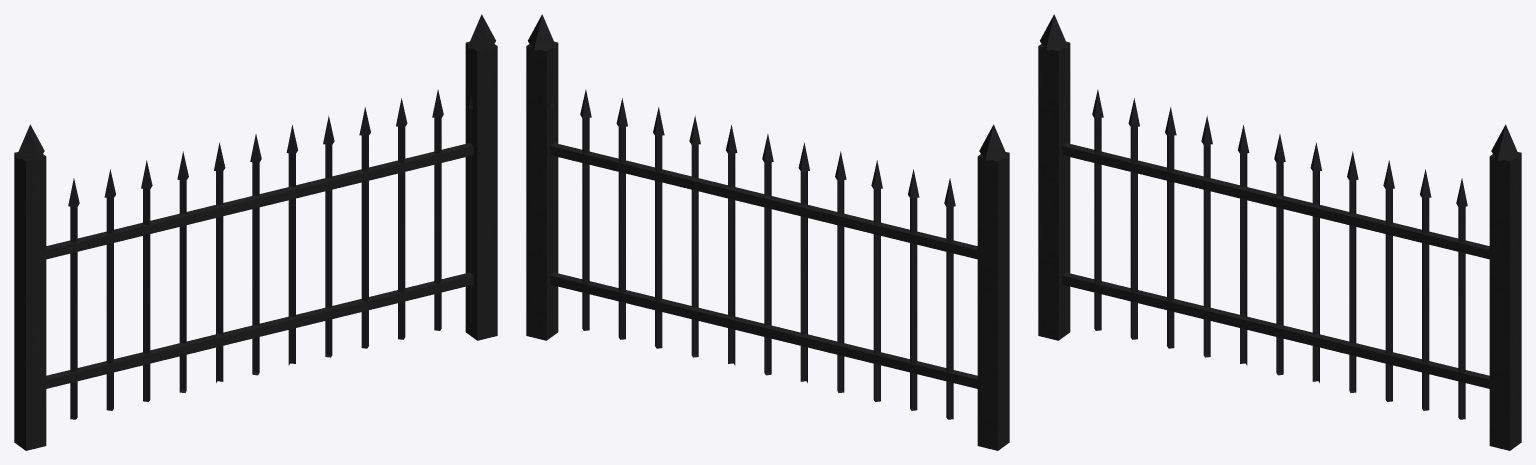
Rendered from iron_fence_01.glb.
3 renders of one model, left to right at view 1: azimuth 30°, elevation 25°; view 2: azimuth 150°, elevation 25°; view 3: azimuth 330°, elevation 25°, orthographic.
Visible parts, largest first — view 1: iron_fence_01; view 2: iron_fence_01; view 3: iron_fence_01.
Boxes of the visible parts, x1=… form: iron_fence_01: x1=14, y1=14, x2=497, y2=450; iron_fence_01: x1=526, y1=14, x2=1009, y2=450; iron_fence_01: x1=1038, y1=14, x2=1521, y2=450.
Size of the model in its own units: 3.3 by 2.1 by 0.2.
Materials: 1 (1 with a texture image).
